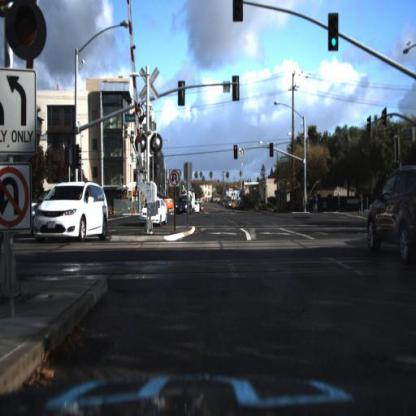biker: (311, 188, 320, 215)
car: (32, 181, 110, 246), (366, 163, 416, 261), (138, 199, 169, 228), (173, 194, 193, 217), (174, 198, 188, 217)
pedestrian: (358, 189, 364, 218), (335, 190, 342, 212)
trafficLight: (8, 4, 53, 69), (329, 13, 339, 50), (232, 1, 244, 25), (269, 141, 276, 158), (234, 140, 239, 162)
trafficLight-Green: (300, 163, 306, 182)
